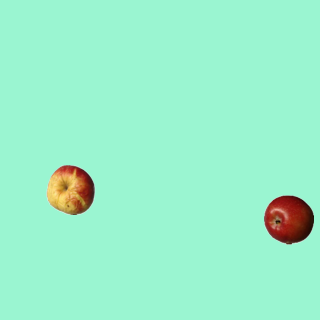Apple Braeburn: (263, 194, 313, 244)
Apple Red Yellow 1: (45, 164, 95, 214)
